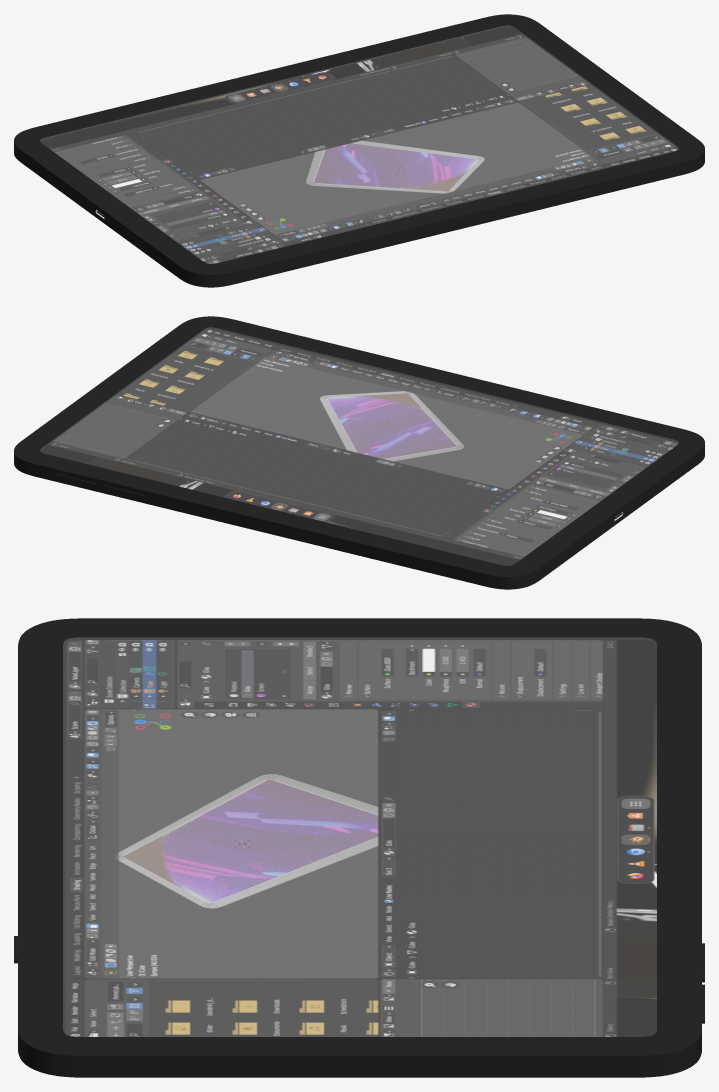
Rendered from tablet.glb.
The picture shows the model from 3 angles, top to bottom: view 1: azimuth 30°, elevation 25°; view 2: azimuth 150°, elevation 25°; view 3: azimuth 270°, elevation 25°; orthographic projection. The views are drawn at different scales.
Visible parts, largest first — view 1: Cube_0; view 2: Cube_0; view 3: Cube_0.
Part boxes in pixels (x1=…): Cube_0: x1=14, y1=14, x2=704, y2=287; Cube_0: x1=14, y1=316, x2=704, y2=589; Cube_0: x1=14, y1=618, x2=704, y2=1077.
Size of the model in its own units: 2 by 0.0464 by 1.33.
Materials: 6 (1 with a texture image).
